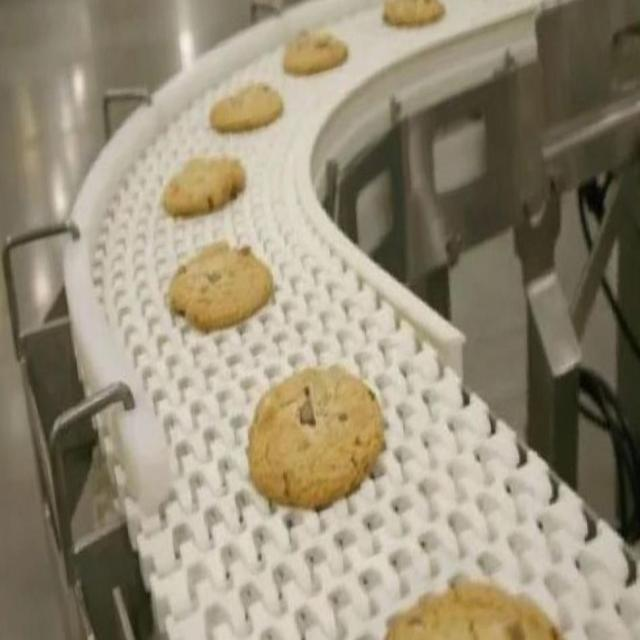food: (246, 361, 386, 511), (163, 230, 279, 336)
